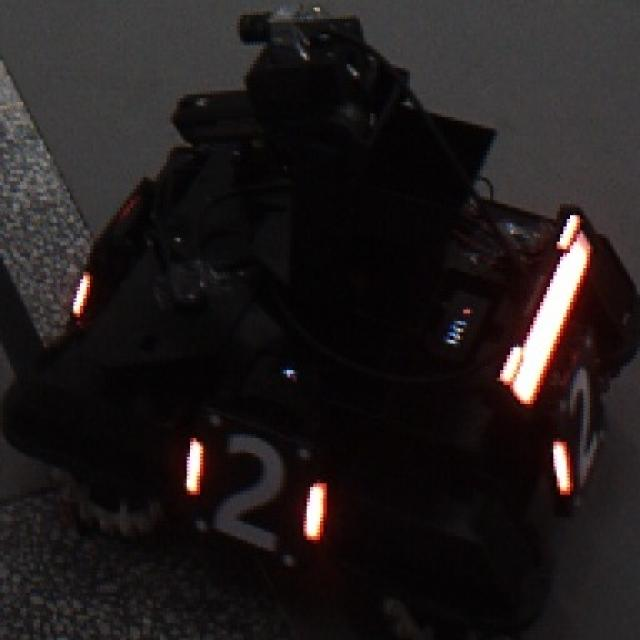R2: (182, 425, 330, 549)
